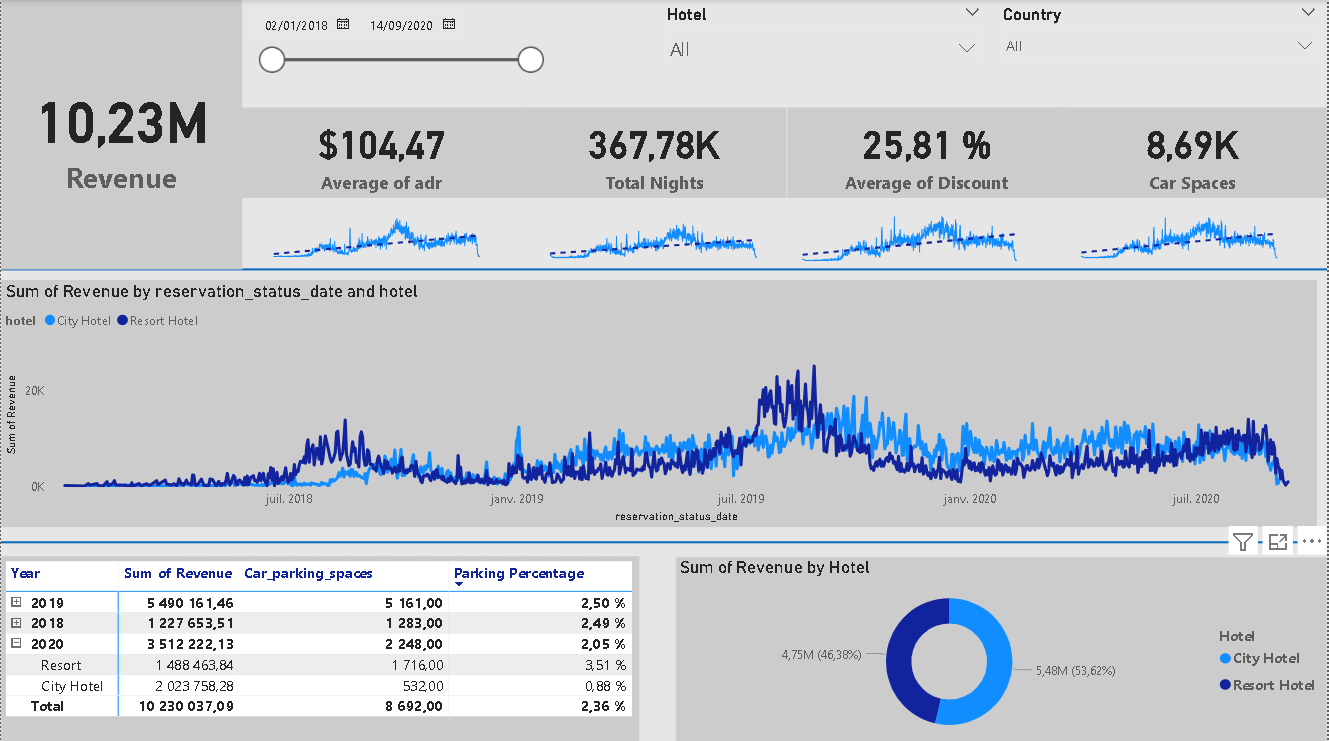

The dashboard page shown, as its layout file describes it:
{"tool":"powerbi","page":{"name":"Page 1","canvas":[1280,720],"ordinal":0},"visuals":[{"type":"shape","box":[0,221.9,1280.5,76.1],"z":0},{"type":"shape","box":[0,480.5,1280.5,86.2],"z":1000},{"type":"card","fields":{"Values":["Sum(Query1.Revenue)"]},"box":[0,0,232.8,260],"z":2000},{"type":"card","fields":{"Values":["Avg(Query1.adr)"]},"box":[233.3,104,268.8,87.5],"z":3000},{"type":"card","fields":{"Values":["Query1.Total Nights"]},"box":[502.1,104,256.1,87.5],"z":4000},{"type":"card","fields":{"Values":["Avg(Query1.Discount)"]},"box":[758.2,104,268.8,87.5],"z":5000},{"type":"lineChart","fields":{"Category":["Query1.reservation_status_date"],"Y":["Sum(Query1.Revenue)"],"Series":["Query1.hotel"]},"box":[0,270.2,1269.9,238.8],"z":6000},{"type":"slicer","fields":{"Values":["Query1.country"]},"box":[953.4,0,327.1,58.3],"z":7000},{"type":"slicer","fields":{"Values":["Query1.hotel"]},"box":[630.1,0,327.1,62.1],"z":8000},{"type":"lineChart","fields":{"Y":["Sum(Query1.adr)"],"Category":["Query1.reservation_status_date.Variation.Date Hierarchy.Year","Query1.reservation_status_date.Variation.Date Hierarchy.Quarter","Query1.reservation_status_date.Variation.Date Hierarchy.Month","Query1.reservation_status_date.Variation.Date Hierarchy.Day"]},"box":[248.5,191.4,228.2,62.1],"z":9000},{"type":"lineChart","fields":{"Y":["Query1.Total Nights"],"Category":["Query1.reservation_status_date.Variation.Date Hierarchy.Year","Query1.reservation_status_date.Variation.Date Hierarchy.Quarter","Query1.reservation_status_date.Variation.Date Hierarchy.Month","Query1.reservation_status_date.Variation.Date Hierarchy.Day"]},"box":[515,193,229.1,61.5],"z":10000},{"type":"card","fields":{"Values":["Sum(Query1.required_car_parking_spaces)"]},"box":[1018.1,104,262.4,87.5],"z":11000},{"type":"lineChart","fields":{"Y":["Sum(Query1.Discount)"],"Category":["Query1.reservation_status_date.Variation.Date Hierarchy.Year","Query1.reservation_status_date.Variation.Date Hierarchy.Quarter","Query1.reservation_status_date.Variation.Date Hierarchy.Month","Query1.reservation_status_date.Variation.Date Hierarchy.Day"]},"box":[758.2,191.4,235.8,65.9],"z":12000},{"type":"lineChart","fields":{"Y":["Sum(Query1.Discount)"],"Category":["Query1.reservation_status_date.Variation.Date Hierarchy.Year","Query1.reservation_status_date.Variation.Date Hierarchy.Quarter","Query1.reservation_status_date.Variation.Date Hierarchy.Month","Query1.reservation_status_date.Variation.Date Hierarchy.Day"]},"box":[1027.5,193,218.3,61.5],"z":13000},{"type":"donutChart","fields":{"Category":["Query1.hotel"],"Y":["Sum(Query1.Revenue)"]},"box":[650.4,536.3,630.1,183.8],"z":14000},{"type":"pivotTable","fields":{"Rows":["Query1.reservation_status_date.Variation.Date Hierarchy.Year","Query1.hotel"],"Values":["Sum(Query1.Revenue)","Sum(Query1.required_car_parking_spaces)","Query1.Parking Percentage"]},"box":[0,536.3,616.2,183.8],"z":15000},{"type":"slicer","fields":{"Values":["Query1.reservation_status_date"]},"box":[233.3,0,299.2,96.4],"z":16000}]}

Visuals, with their boxes in screenshot pixels (x1, y1, x2, y2), scaled from the page's 1280x720 canvas onto the 1329x741 screenshot:
shape: select_region(0, 228, 1328, 307)
shape: select_region(0, 495, 1328, 583)
card - Sum(Query1.Revenue): select_region(0, 0, 242, 268)
card - Avg(Query1.adr): select_region(242, 107, 521, 197)
card - Query1.Total Nights: select_region(521, 107, 787, 197)
card - Avg(Query1.Discount): select_region(787, 107, 1066, 197)
lineChart - Query1.reservation_status_date x Sum(Query1.Revenue): select_region(0, 278, 1319, 524)
slicer - Query1.country: select_region(990, 0, 1328, 60)
slicer - Query1.hotel: select_region(654, 0, 994, 64)
lineChart - Sum(Query1.adr) x Query1.reservation_status_date.Variation.Date Hierarchy.Year: select_region(258, 197, 495, 261)
lineChart - Query1.Total Nights x Query1.reservation_status_date.Variation.Date Hierarchy.Year: select_region(535, 199, 773, 262)
card - Sum(Query1.required_car_parking_spaces): select_region(1057, 107, 1328, 197)
lineChart - Sum(Query1.Discount) x Query1.reservation_status_date.Variation.Date Hierarchy.Year: select_region(787, 197, 1032, 265)
lineChart - Sum(Query1.Discount) x Query1.reservation_status_date.Variation.Date Hierarchy.Year: select_region(1067, 199, 1293, 262)
donutChart - Query1.hotel x Sum(Query1.Revenue): select_region(675, 552, 1328, 740)
pivotTable - Query1.reservation_status_date.Variation.Date Hierarchy.Year x Query1.hotel: select_region(0, 552, 640, 740)
slicer - Query1.reservation_status_date: select_region(242, 0, 553, 99)
